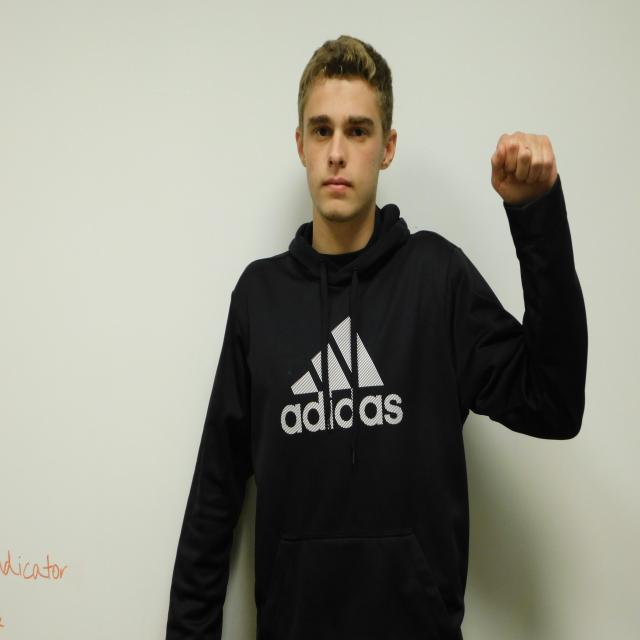yes: (491, 131, 558, 199)
